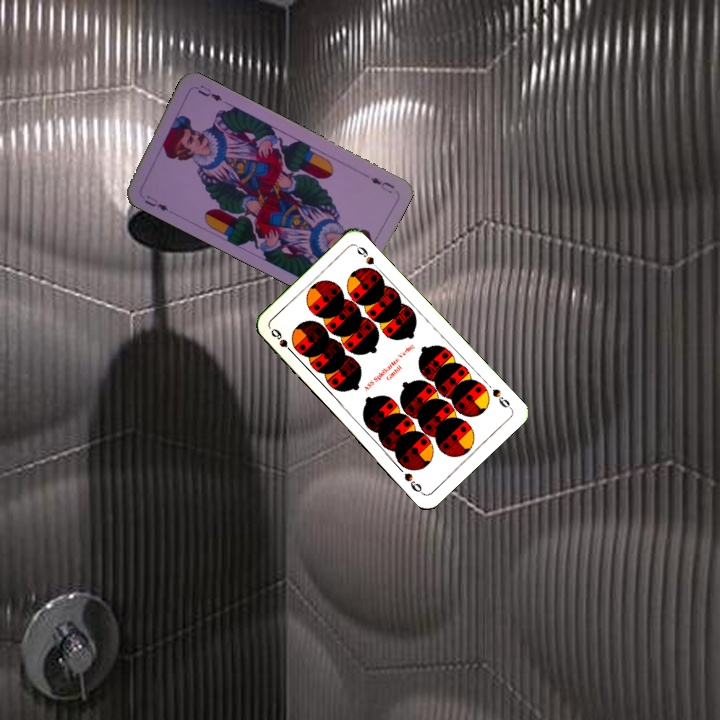EU: (367, 173, 397, 196), (140, 191, 171, 213)
S9: (267, 324, 298, 358), (488, 385, 515, 412)
